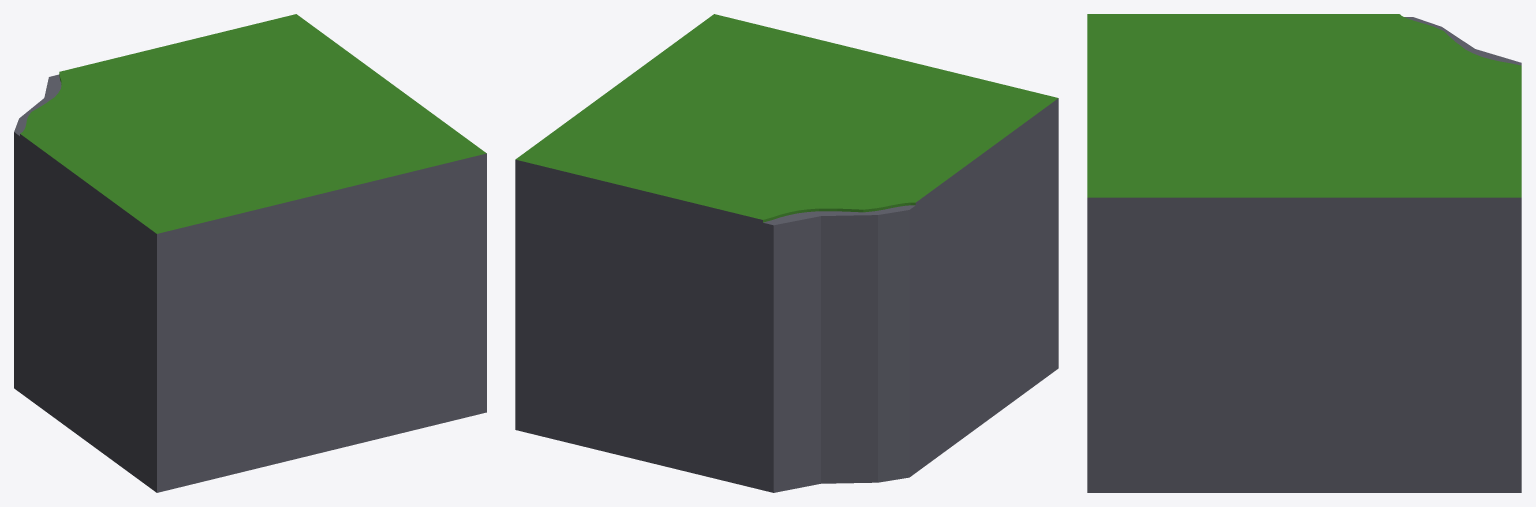
The model's file is Wedge2v2.fbx.
The picture shows the model from 3 angles, left to right: view 1: azimuth 30°, elevation 25°; view 2: azimuth 150°, elevation 25°; view 3: azimuth 270°, elevation 25°; orthographic projection. The views are drawn at different scales.
Parts seen in each view (by area): view 1: Plane.031; view 2: Plane.031; view 3: Plane.031.
Part boxes in pixels (x1,y1,x2,y2): Plane.031: (14,14,486,492); Plane.031: (515,14,1058,492); Plane.031: (1087,14,1521,492).
Size of the model in its own units: 100 by 75 by 100.
